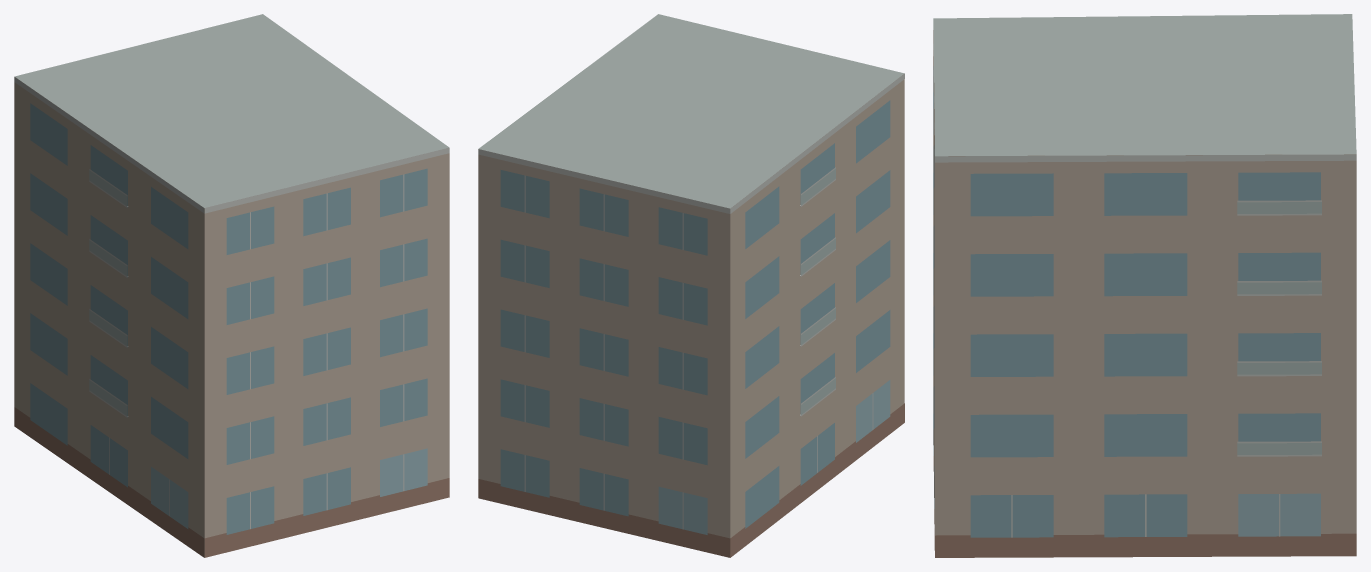
Rendered from survey-upis-32940414.glb.
3 renders of one model, left to right at view 1: azimuth 30°, elevation 25°; view 2: azimuth 150°, elevation 25°; view 3: azimuth 270°, elevation 25°, orthographic. The views are drawn at different scales.
Visible parts, largest first — view 1: survey-upis-32940414.tmp; view 2: survey-upis-32940414.tmp; view 3: survey-upis-32940414.tmp.
Part boxes in pixels (x1,y1,x2,y2): survey-upis-32940414.tmp: [14, 14, 449, 557]; survey-upis-32940414.tmp: [478, 14, 904, 557]; survey-upis-32940414.tmp: [933, 14, 1356, 557].
Bounding box in the file's own units: 11.7 × 15.4 × 14.72.
